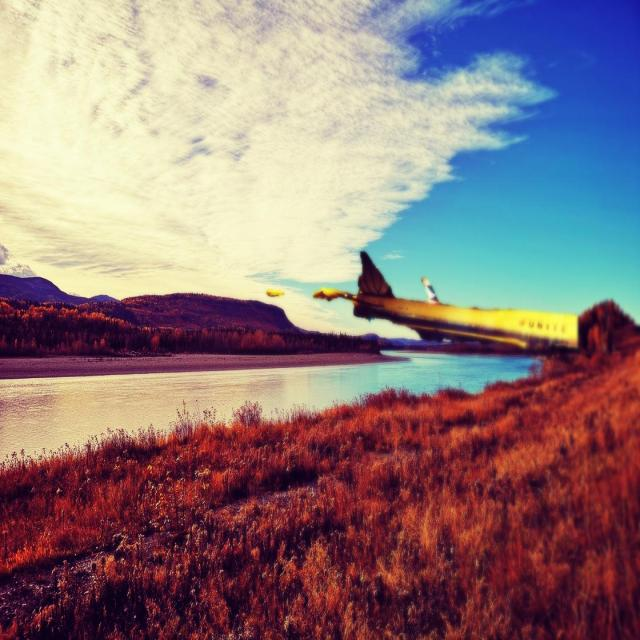airplane: (312, 250, 579, 352)
